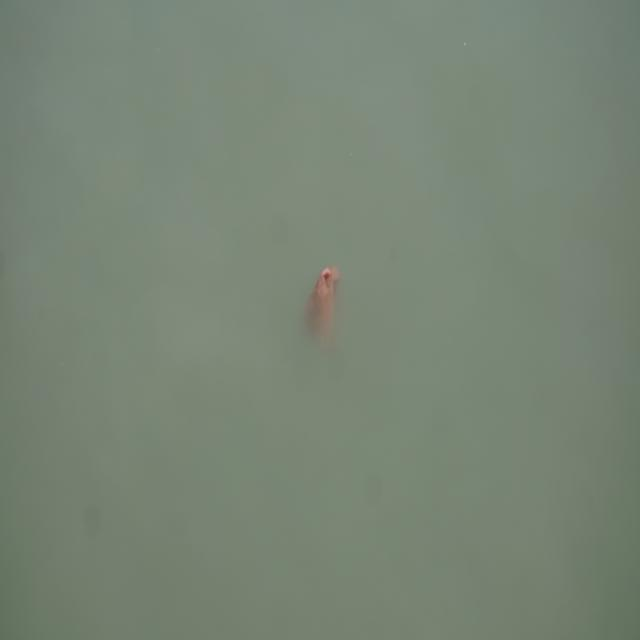Kantong Plastik: (304, 258, 343, 350)
